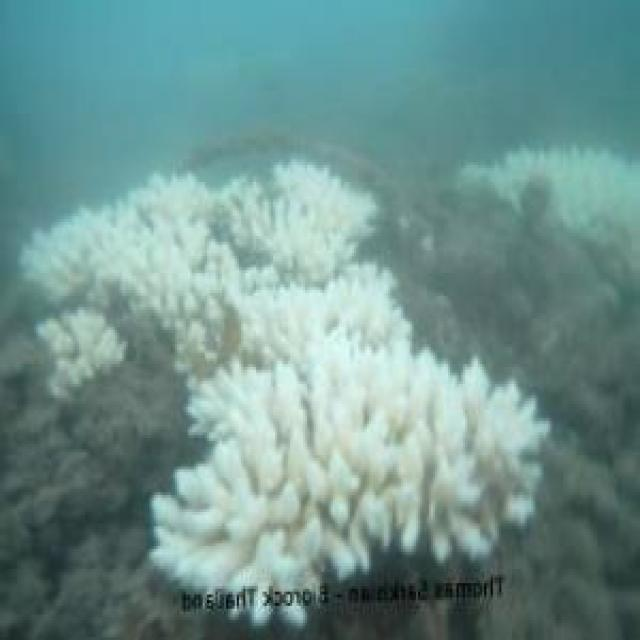bleached coral: (26, 165, 548, 590), (461, 148, 640, 269), (484, 154, 640, 262), (154, 464, 265, 589), (233, 208, 352, 290), (183, 216, 267, 310), (47, 210, 151, 284), (192, 347, 279, 432), (41, 310, 128, 393), (326, 321, 416, 393), (420, 401, 478, 509), (307, 407, 369, 501), (279, 518, 329, 577), (262, 302, 316, 356), (147, 171, 211, 193)
